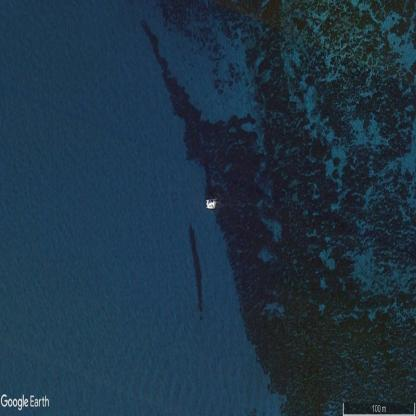ship: (206, 199, 216, 209)
